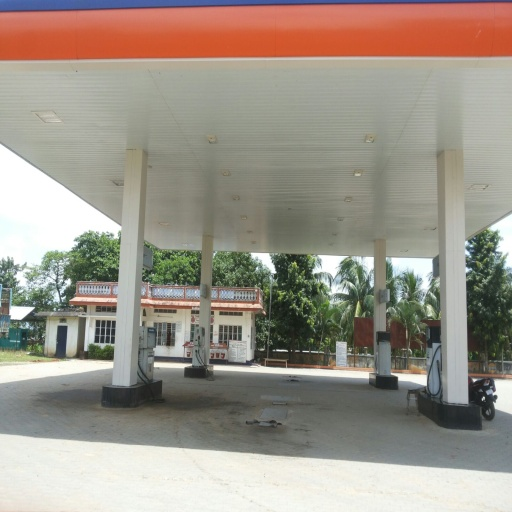roof: (1, 1, 508, 248)
